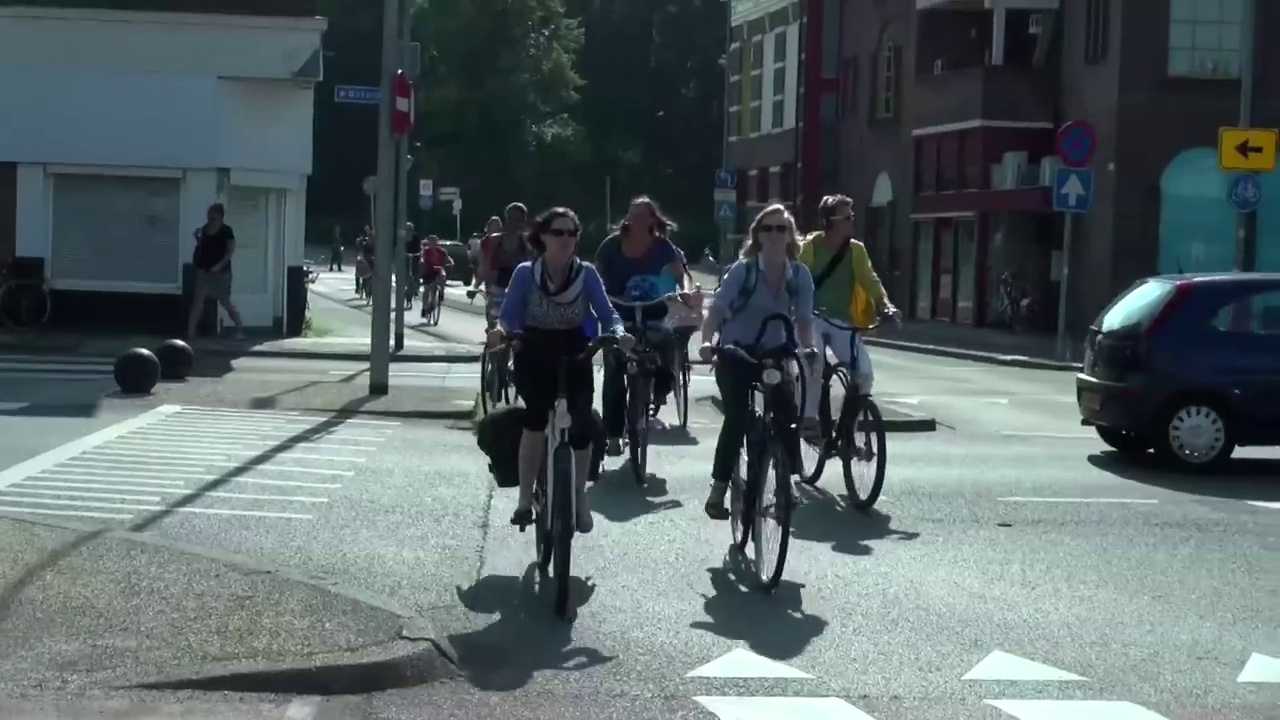cyclist_front: (496, 201, 605, 600), (706, 195, 802, 591), (799, 183, 897, 524), (601, 195, 668, 495), (416, 228, 450, 329)
